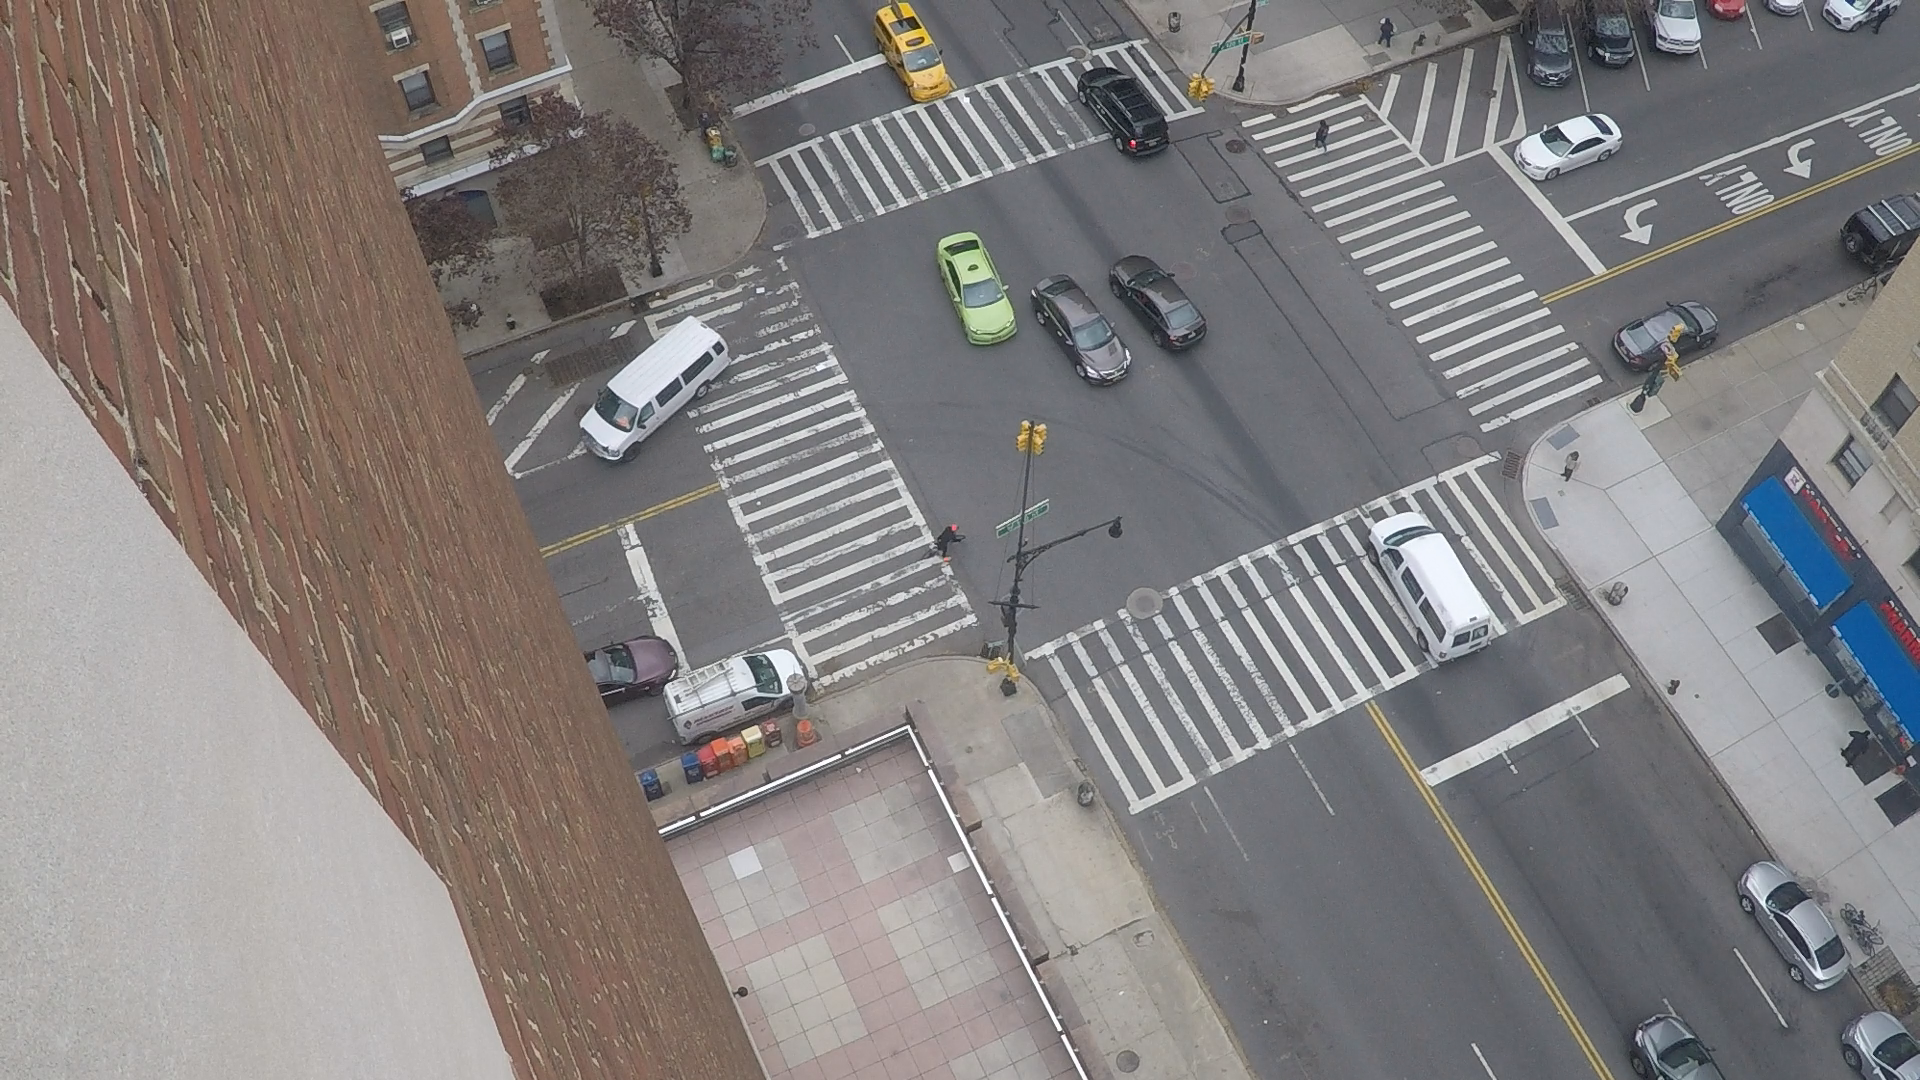Car: (996, 266, 1004, 286), (1760, 0, 1764, 5), (1643, 0, 1644, 9), (1704, 0, 1705, 7)
